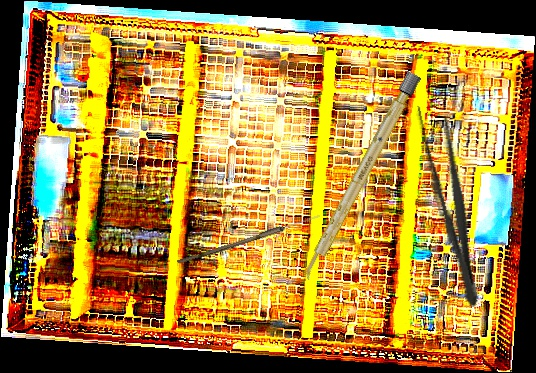Dressing Forceps: (411, 100, 491, 311)
Scalpel Handle: (299, 70, 422, 283)
Surgical Spoon: (176, 211, 322, 268)
